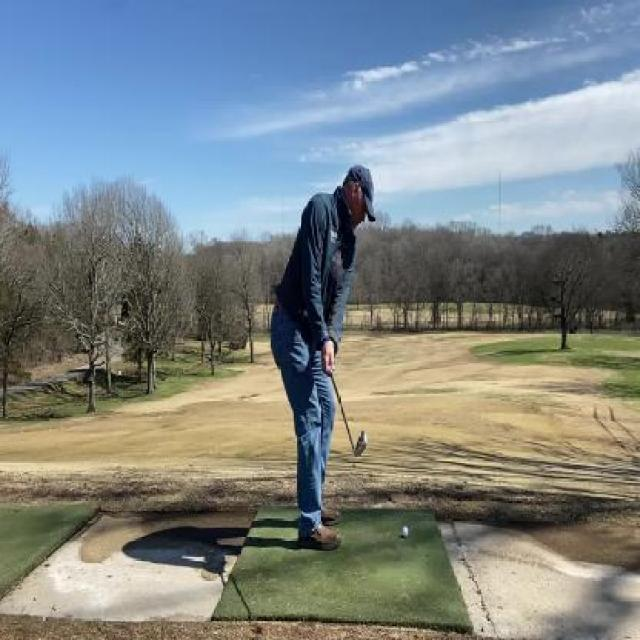club head: (348, 429, 368, 458)
